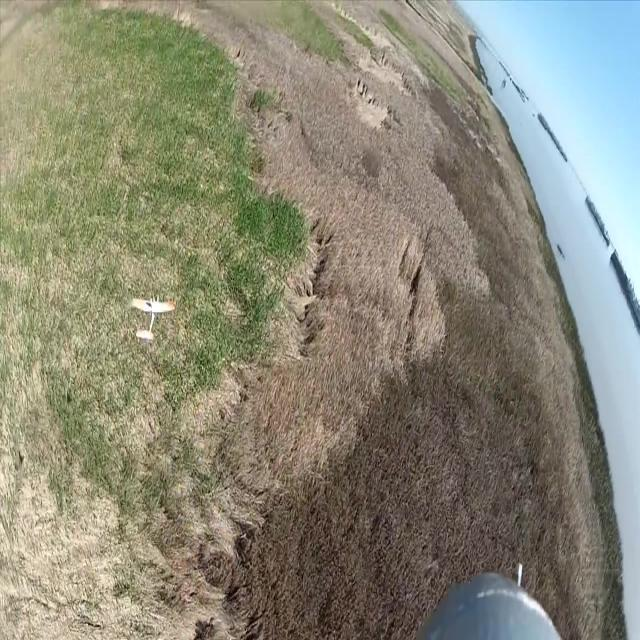iha: (130, 293, 176, 341)
